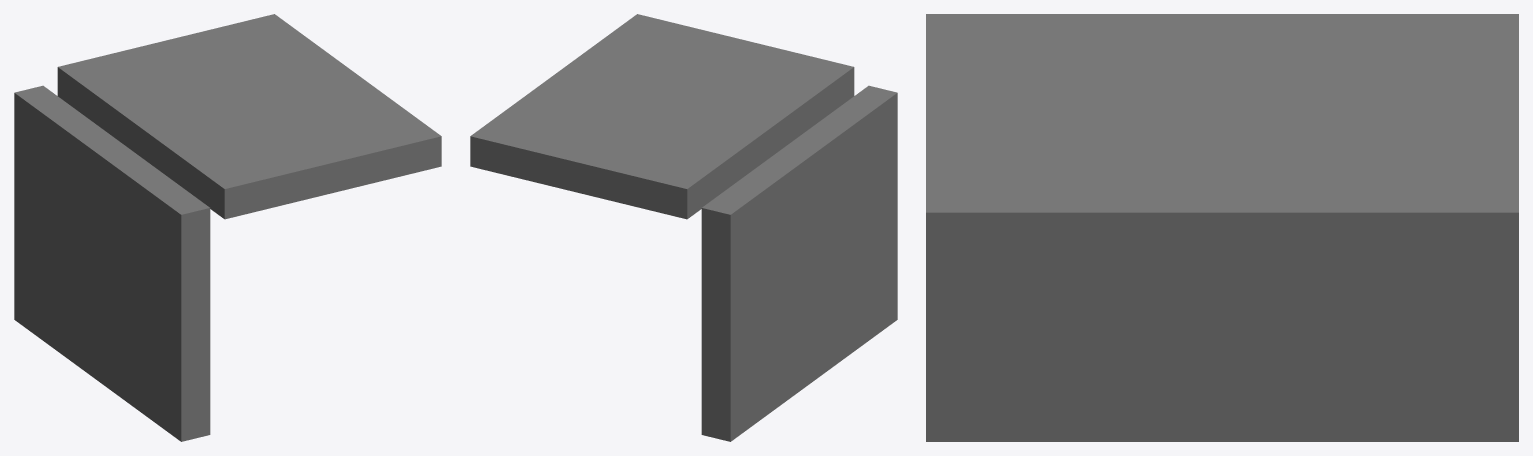
File: У5.1_Кромки.glb
3 views of the same model, side by side, from view 1: azimuth 30°, elevation 25°; view 2: azimuth 150°, elevation 25°; view 3: azimuth 270°, elevation 25° (orthographic). The views are drawn at different scales.
Parts seen in each view (by area): view 1: node_id3; view 2: node_id3; view 3: node_id3.
Boxes of the visible parts, <box> form: node_id3: <box>14,14,441,441</box>; node_id3: <box>470,14,897,441</box>; node_id3: <box>926,14,1518,441</box>.
Size of the model in its own units: 0.512 by 0.4551 by 0.5689.
Materials: 1 (1 with a texture image).
